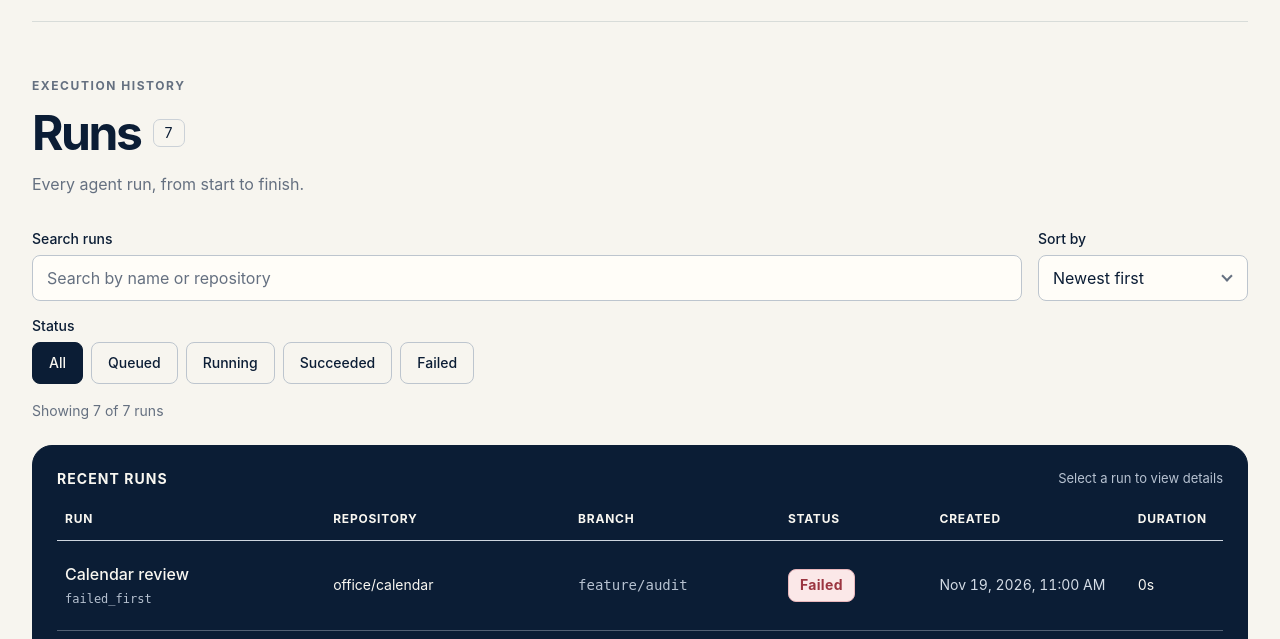
Scenario: сбрасывает поиск и статус при пустой выдаче, сохраняя сортировку и остальные параметры URL
The width and height of the screenshot is (1280, 639).
Expected: the search field labelled "Search runs" is shown, [32,255,1022,301]
Select "Longest duration" in the dropdown labelled "Sort by". click: (1143,278)
box: [1038,255,1248,301]
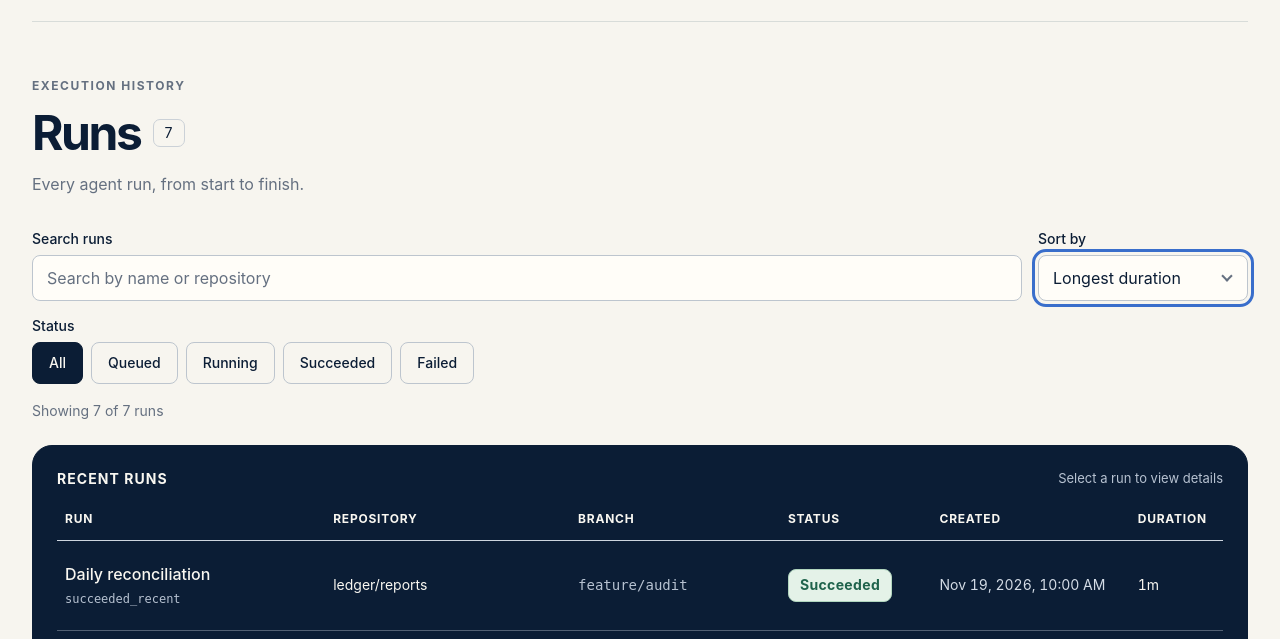
Click the button "Failed". click: (437,363)
box: [400,342,474,384]
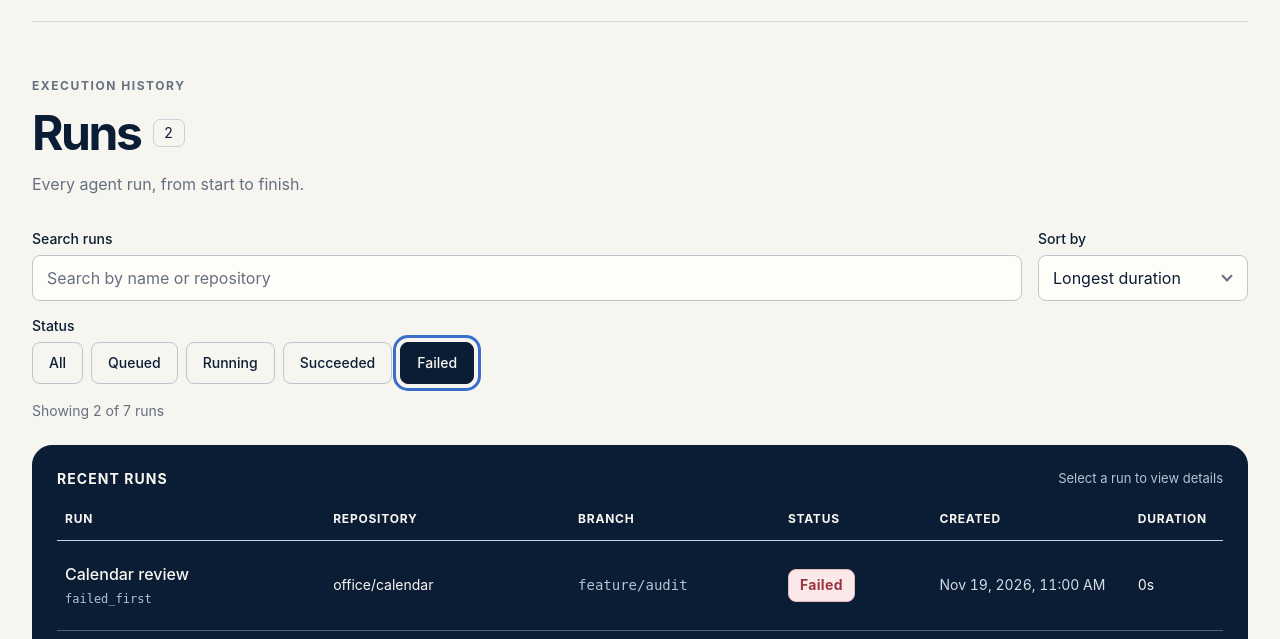
Type "missing run" into the search field. click: (527,278)
box: [32,255,1022,301]
(page scrolled)
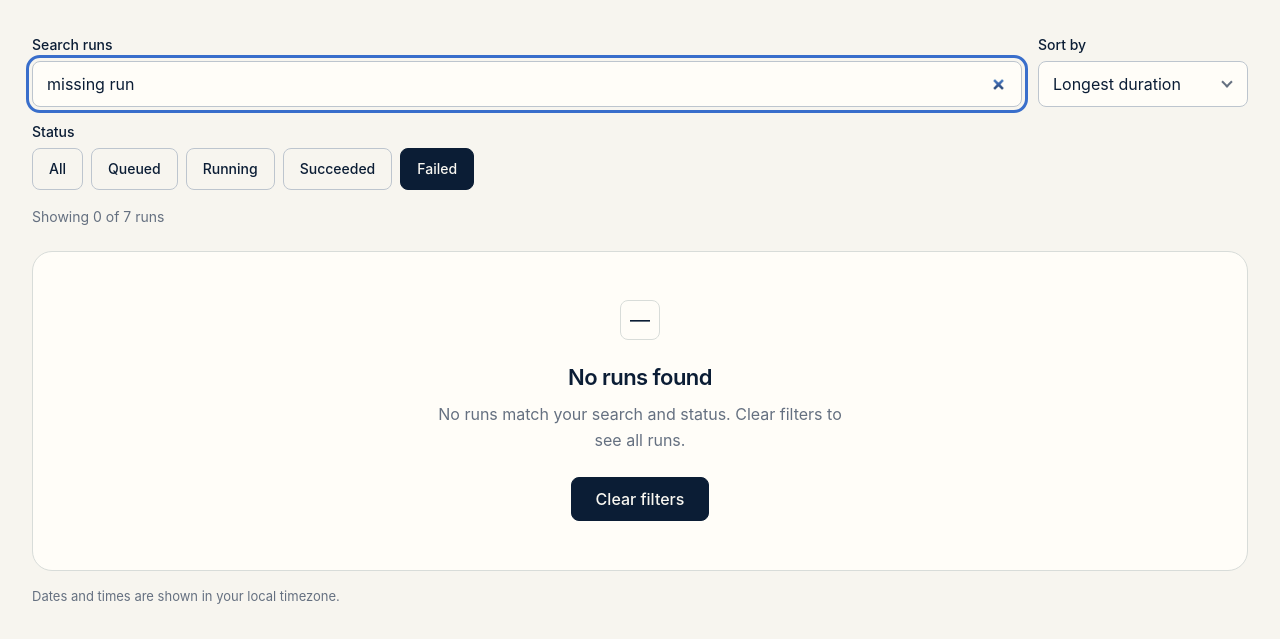
Now the heading "No runs found" is shown, box [568,364,712,390]
Click the button "Clear filters". click: (640,499)
box: [571,477,709,521]
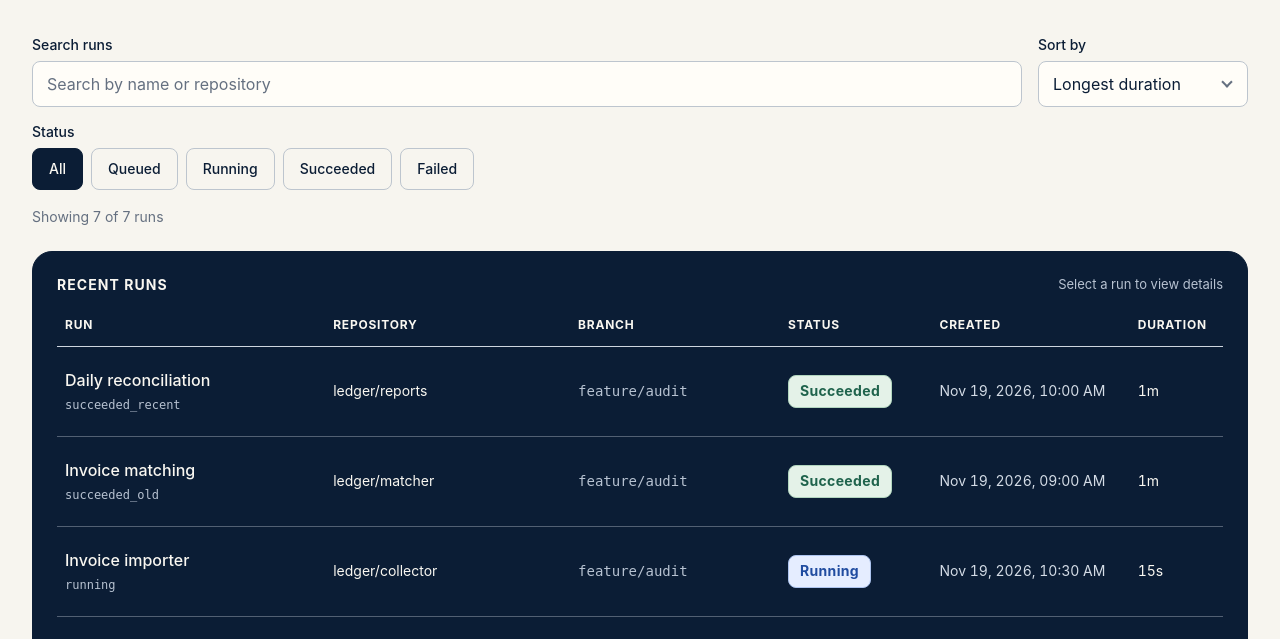
Now the search field is empty, box [32,61,1022,107]
